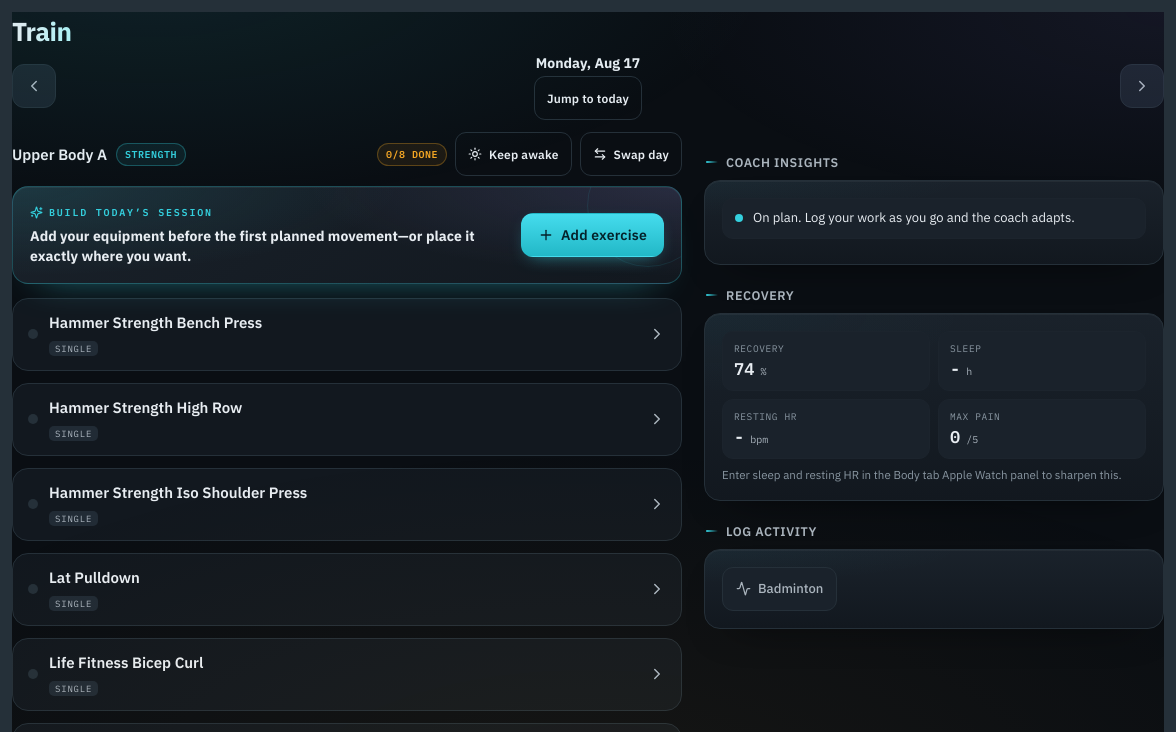
Train workout blocks start folded and open when selected
Click the button "Hammer Strength Bench Press single" at [156, 322], box x1=13 y1=299 x2=681 y2=370
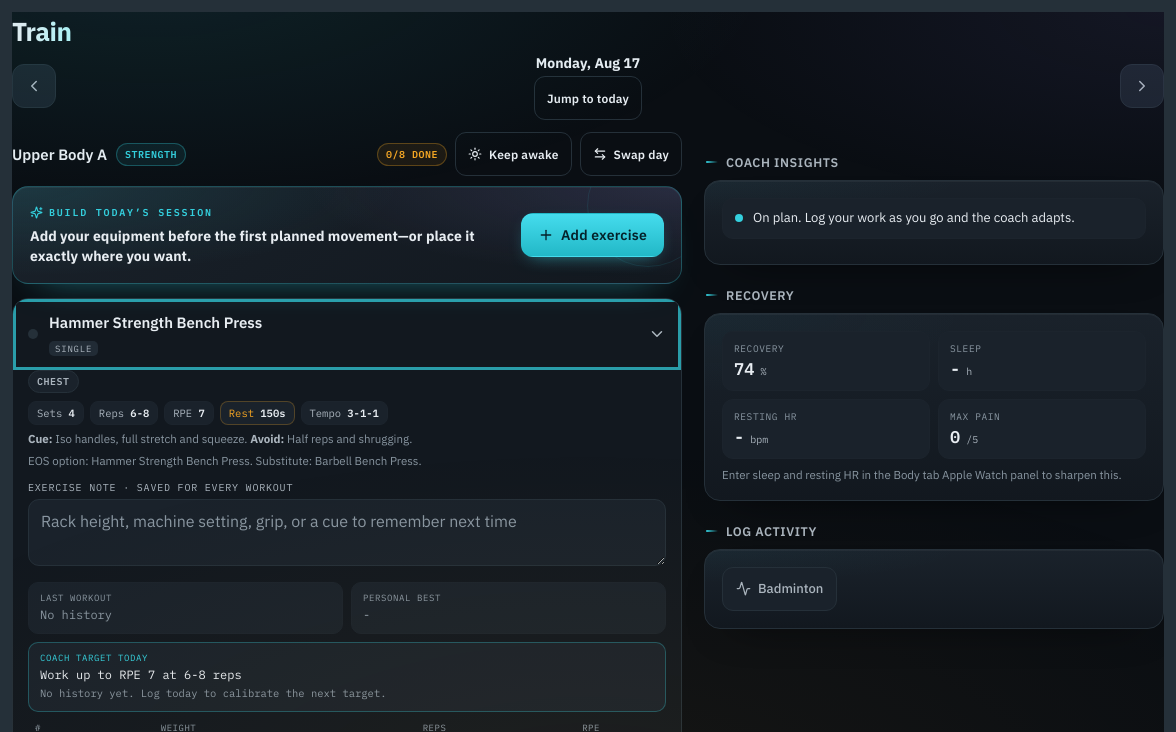
Now the button "Hammer Strength Bench Press single" is expanded
Click the button "Hammer Strength Bench Press single" at [156, 322], box x1=13 y1=299 x2=681 y2=370
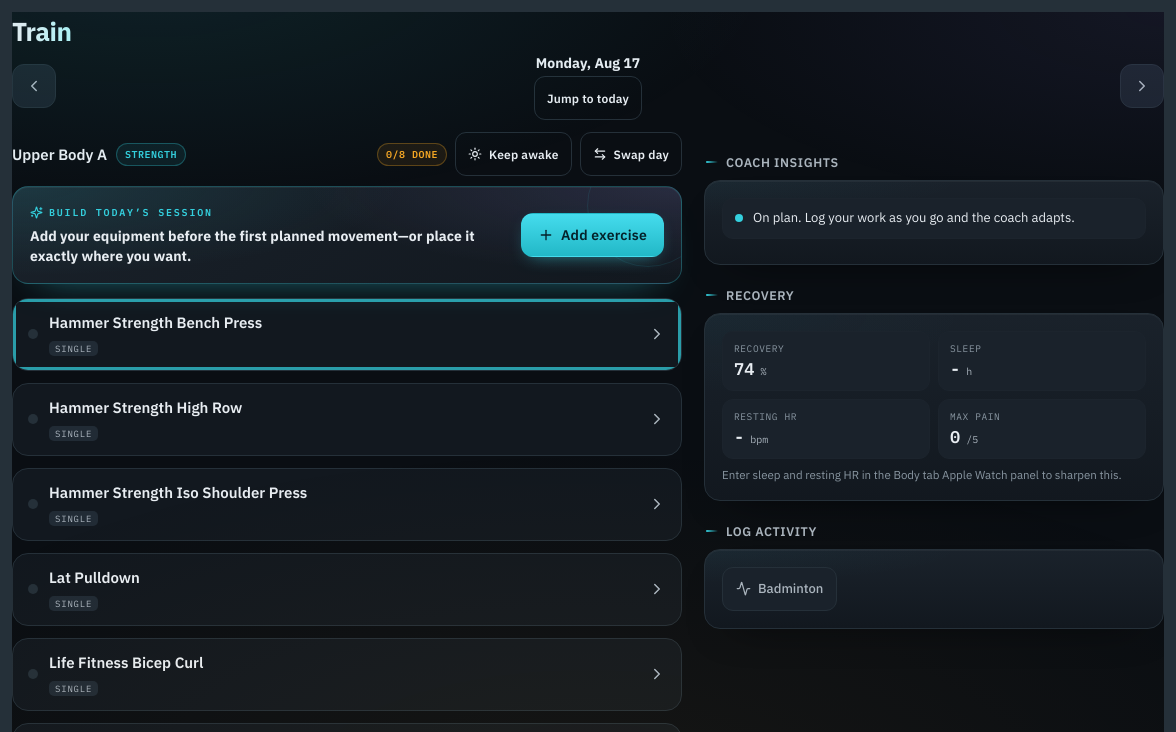
Now the button "Hammer Strength Bench Press single" is collapsed, box x1=13 y1=299 x2=681 y2=370
